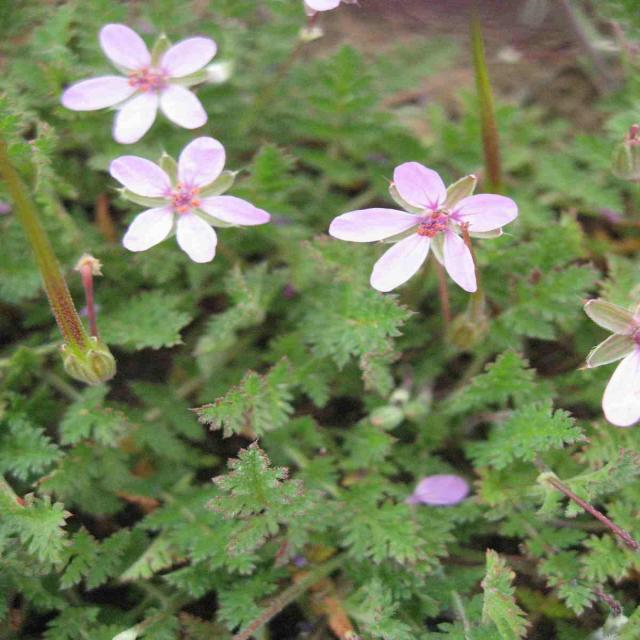organic waste: (342, 164, 530, 296), (91, 144, 278, 261), (37, 21, 222, 139), (575, 291, 638, 434)
